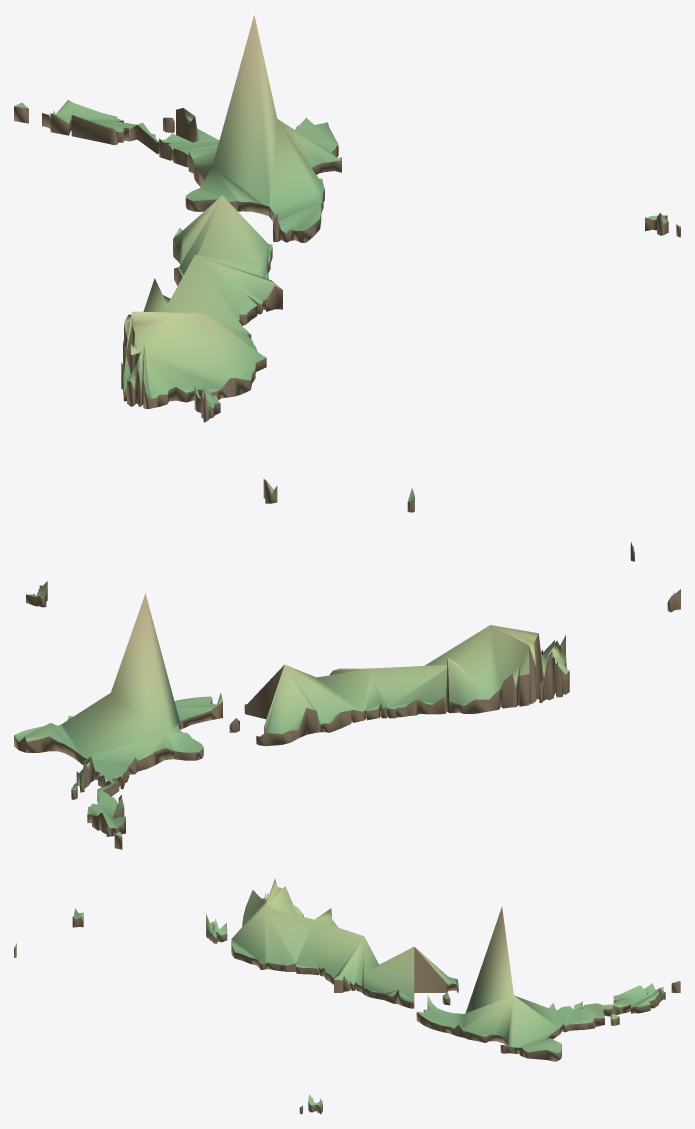
The model's file is NZL.glb.
3 renders of one model, top to bottom at view 1: azimuth 30°, elevation 25°; view 2: azimuth 150°, elevation 25°; view 3: azimuth 270°, elevation 25°, orthographic. The views are drawn at different scales.
Parts seen in each view (by area): view 1: NZL; view 2: NZL; view 3: NZL.
Boxes of the visible parts, x1,y1,x2,y2 form: NZL: (14, 15, 680, 512); NZL: (14, 542, 680, 849); NZL: (14, 878, 680, 1114).
Bounding box in the file's own units: 1.17 × 0.338 × 1.72.
